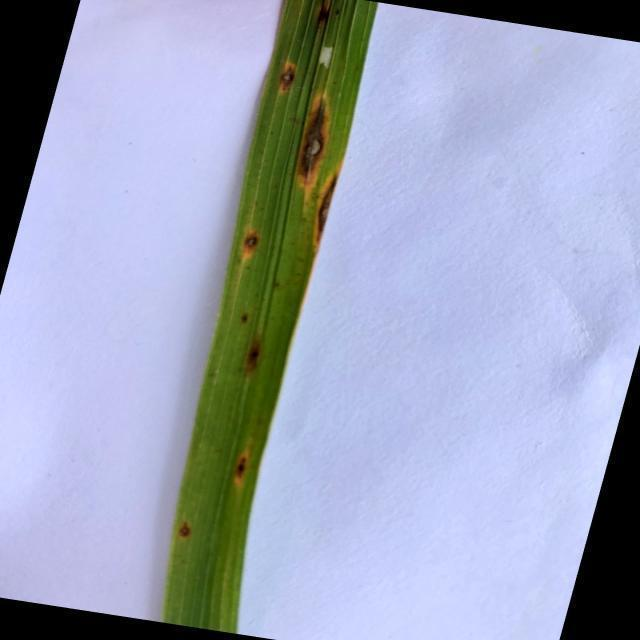Leaf_Blast: (290, 93, 329, 191), (310, 158, 345, 255), (227, 452, 252, 488), (241, 340, 265, 373), (278, 60, 297, 96), (240, 228, 262, 254), (178, 519, 192, 539)
